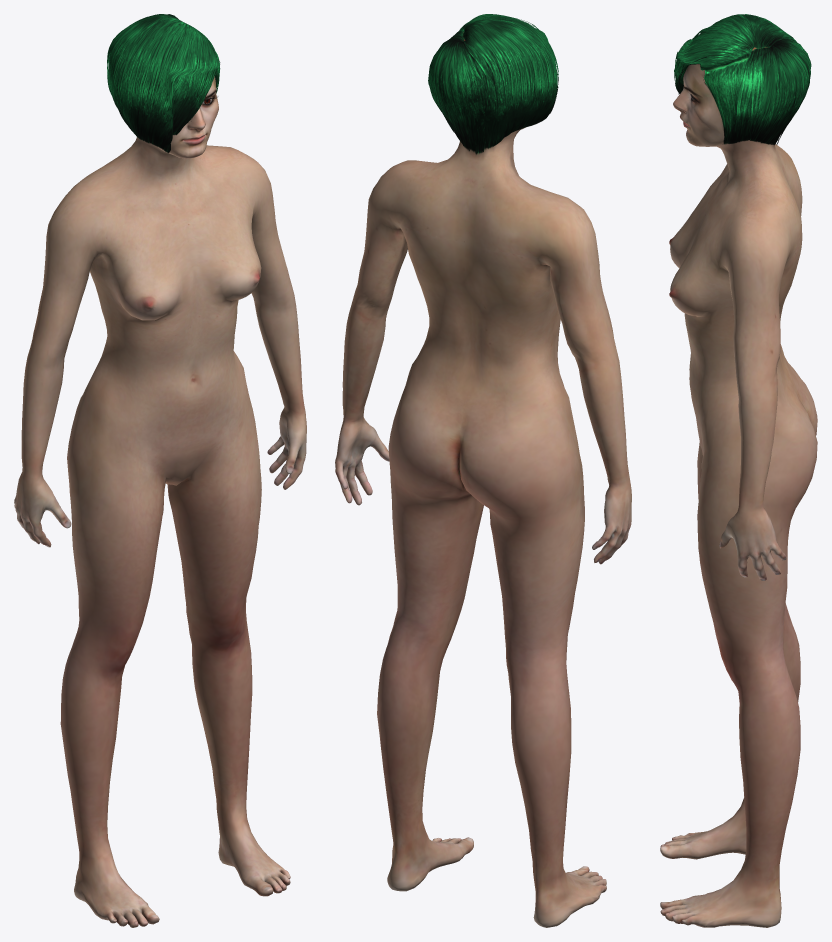
The model's file is figur_stand_u1.glb.
The picture shows the model from 3 angles, left to right: view 1: azimuth 30°, elevation 25°; view 2: azimuth 150°, elevation 25°; view 3: azimuth 270°, elevation 25°; orthographic projection.
Visible parts, largest first — view 1: body, hair; view 2: body, hair; view 3: body, hair.
Part boxes in pixels (x1,y1,x2,y2): body: [14, 76, 306, 927]; hair: [107, 14, 220, 152]; body: [335, 32, 631, 927]; hair: [428, 14, 558, 154]; body: [660, 47, 817, 927]; hair: [674, 14, 811, 145].
Size of the model in its own units: 0.569 by 1.68 by 0.2769.
5 materials, 5 textured.
